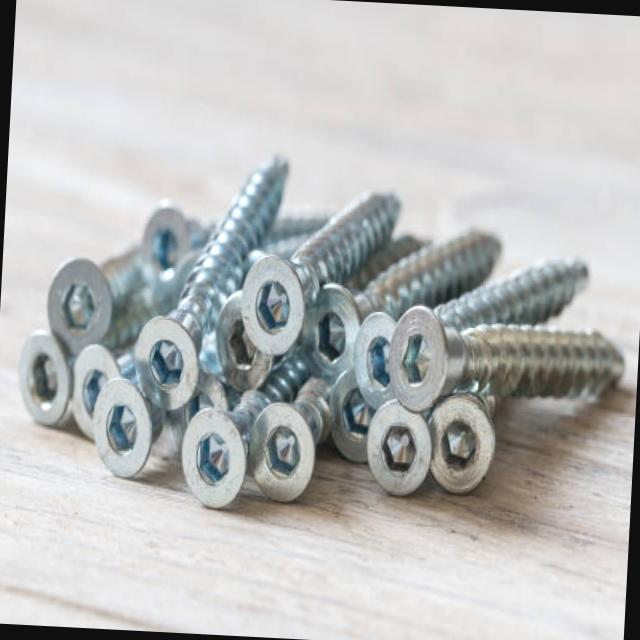Hex Socket Allen: (426, 398, 506, 498), (359, 398, 434, 498), (246, 400, 318, 502), (180, 405, 252, 507), (35, 256, 115, 346), (389, 300, 451, 400), (237, 257, 304, 346), (91, 384, 152, 474), (212, 299, 270, 388), (327, 369, 384, 450), (136, 326, 196, 399), (304, 287, 358, 368), (352, 310, 400, 400)
